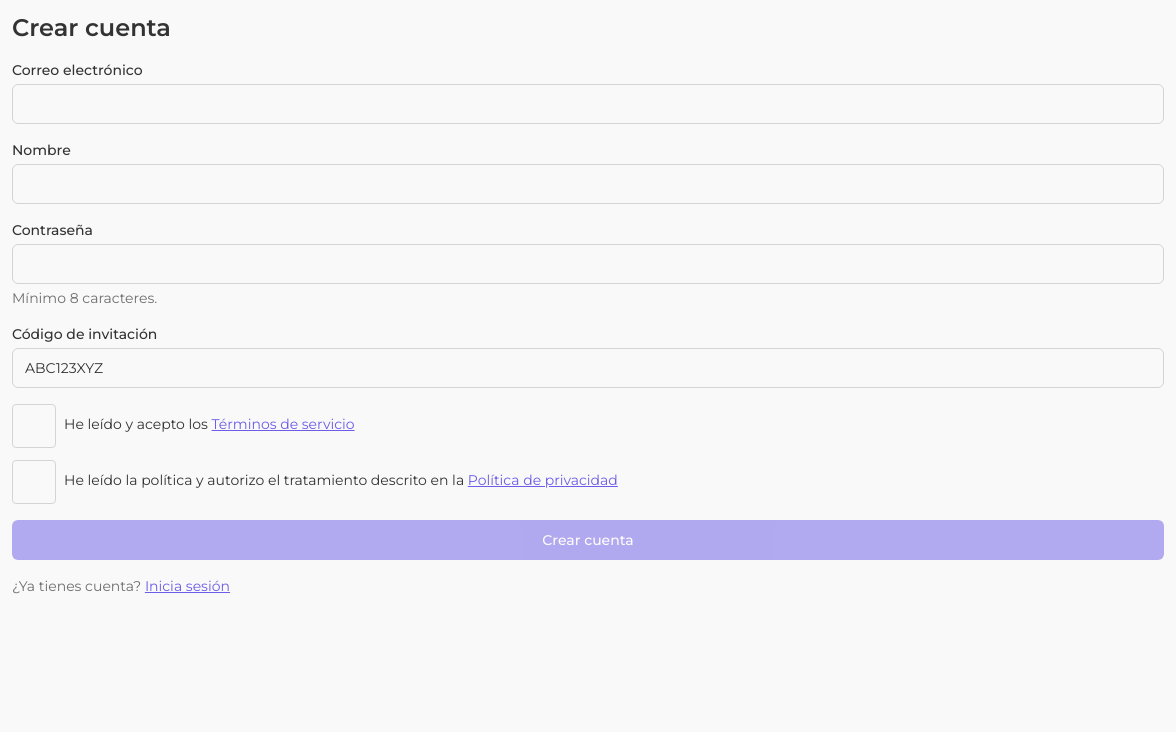
Scenario: RegisterForm legal acknowledgements › gives each unchecked acknowledgement its own validation message
What coordinates should you click on to do the following:
click the checkbox named "Términos de servicio" next to "He leído y acepto los"
I would click on:
 (34, 426)
Its box is 12,404 -> 56,448.
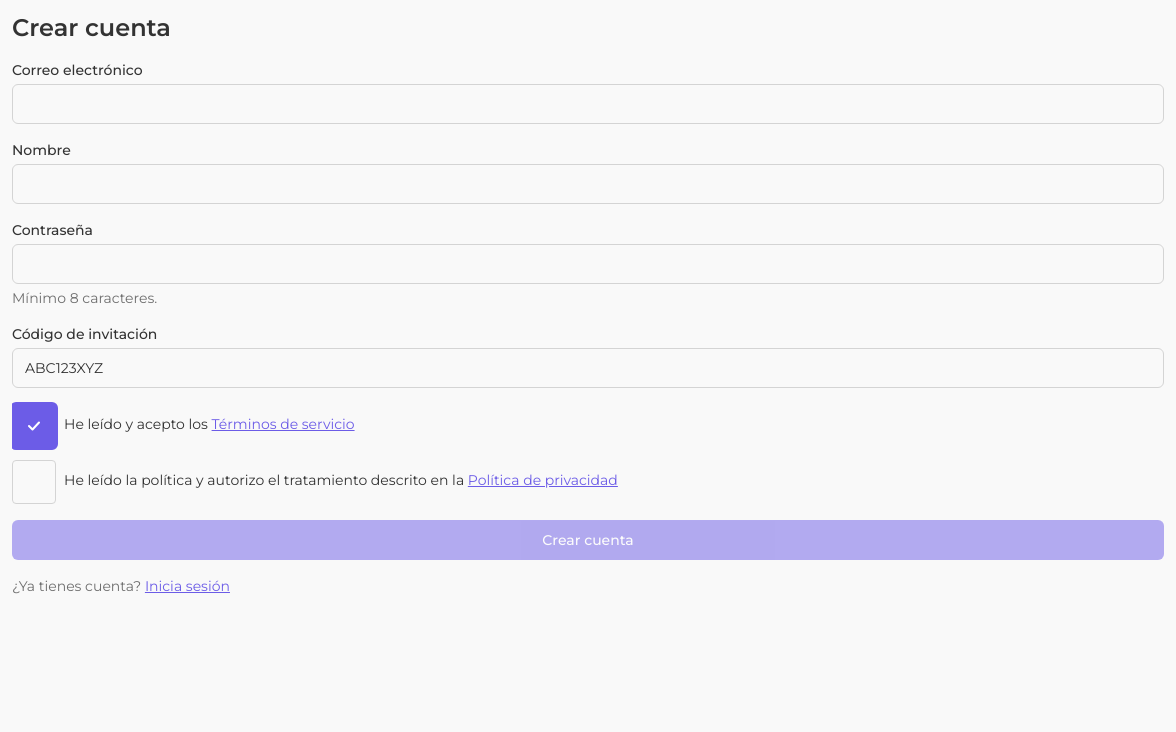
What coordinates should you click on to do the following:
click the checkbox named "Términos de servicio" next to "He leído y acepto los"
I would click on:
 (34, 426)
Its box is 12,404 -> 56,448.
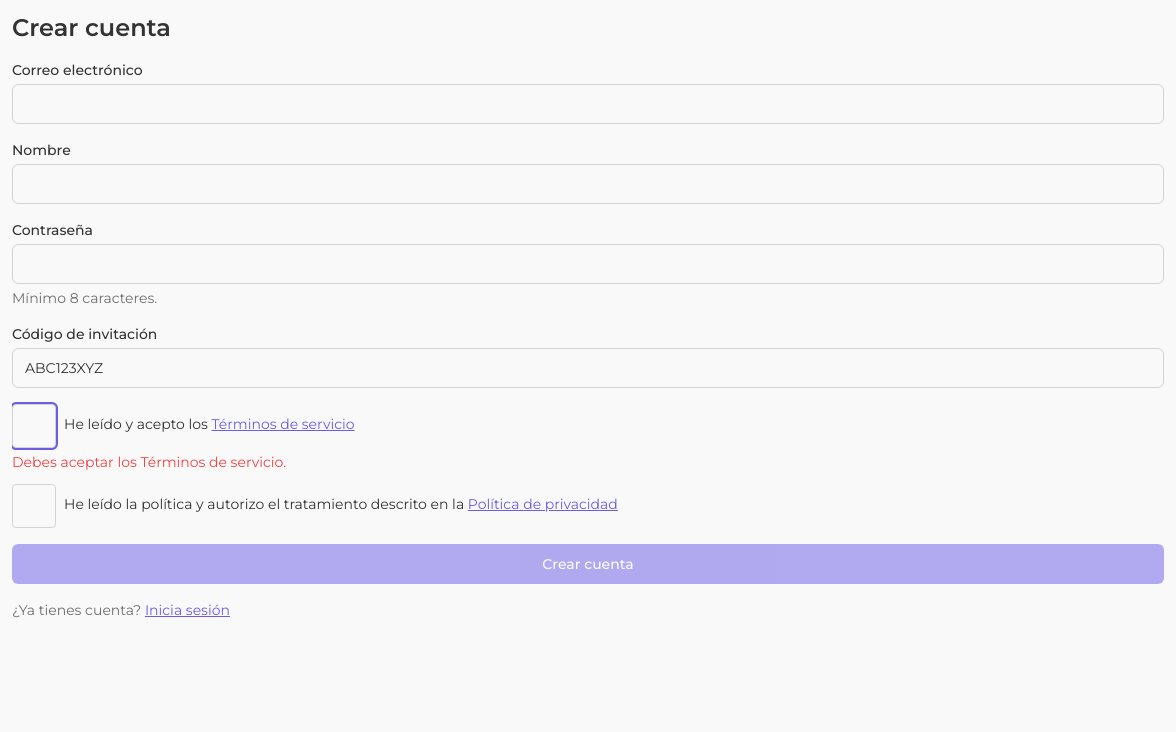
What coordinates should you click on to do the following:
click the checkbox named "Política de privacidad" in the row of "Política de privacidad"
I would click on:
 (34, 506)
Its box is 12,484 -> 56,528.
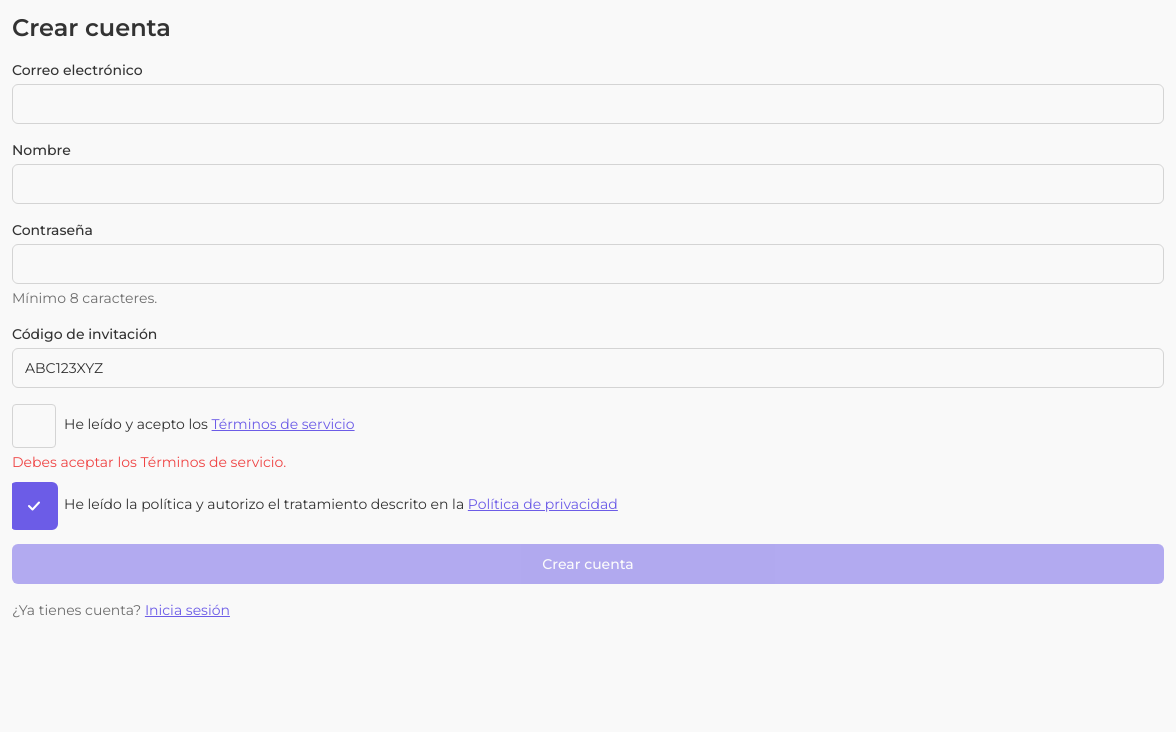
What coordinates should you click on to do the following:
click the checkbox named "Política de privacidad" in the row of "Política de privacidad"
I would click on:
 (34, 506)
Its box is 12,484 -> 56,528.
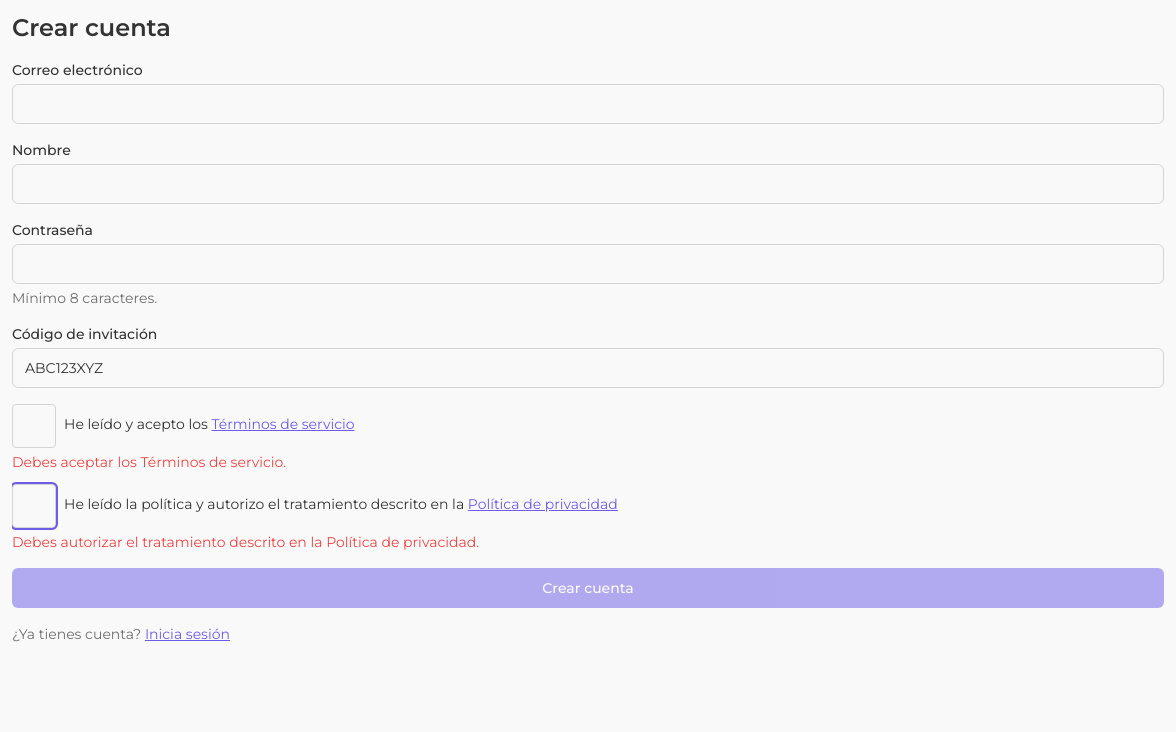
Result: the text "Debes aceptar los Términos de servicio." is shown at 12,453 -> 286,471
Result: the text "Debes autorizar el tratamiento descrito en la Política de privacidad." is shown at 12,533 -> 479,551
